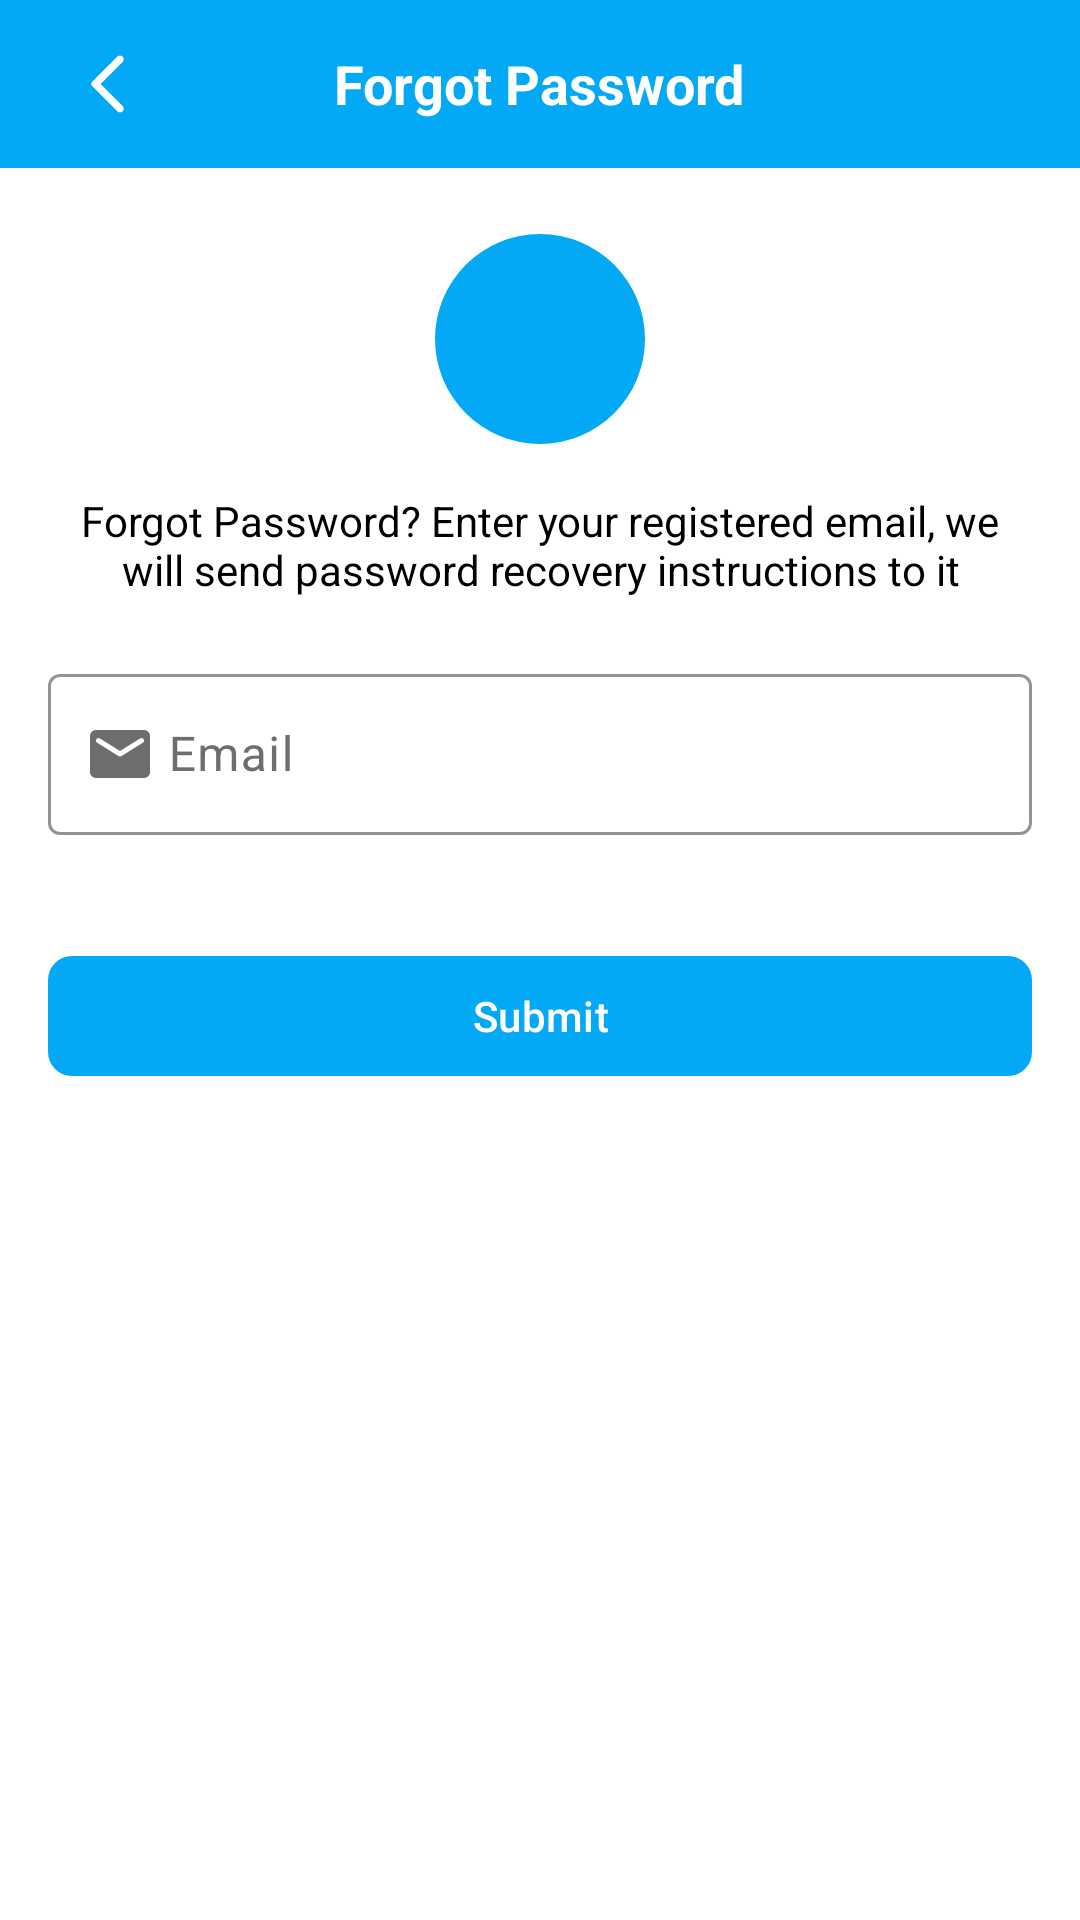

Screen size 1080w x 1920h. Icon name, then its center in pixels as [x,y]:
Back: [107,84]
